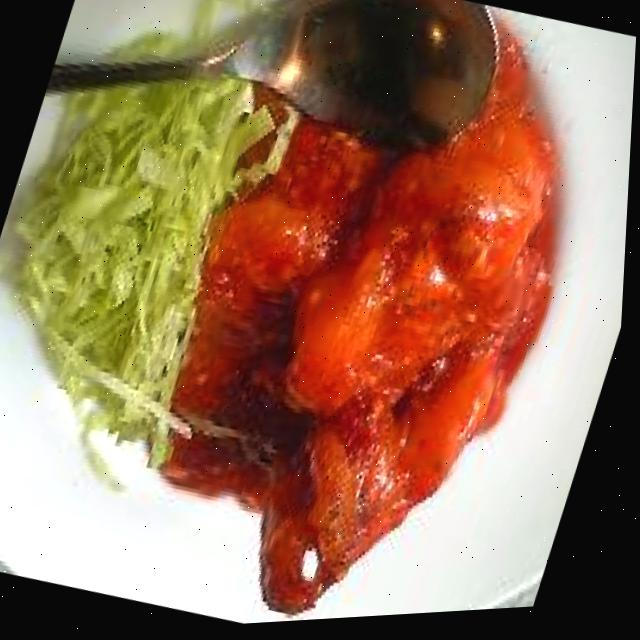熟制海鲜: (22, 0, 640, 638)
